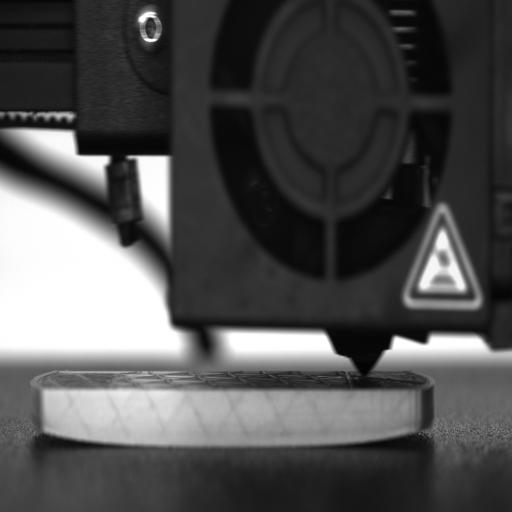warp: (25, 410, 142, 451), (324, 414, 443, 450)
